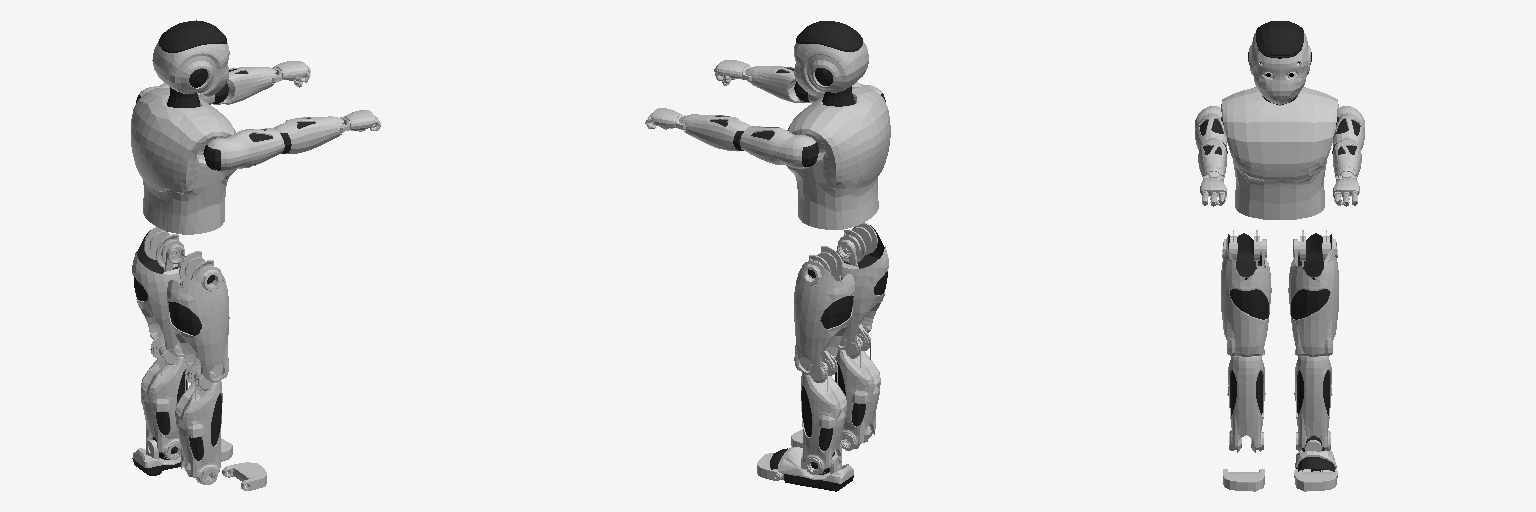
--- What the picture shows (computed from the rendered views, not written in the file) ---
Views: 3 orthographic renders of the robot side by side, from view 1: azimuth 30°, elevation 25°; view 2: azimuth 150°, elevation 25°; view 3: azimuth 270°, elevation 25°.
Robot: romeo — 70 links, 69 joints (33 revolute, 36 fixed); root link base_link; default pose: every joint at zero.
Links seen in each view (by area): view 1: torso, RHipPitchLink, HeadRollLink, LHipPitchLink, RKneePitchLink, LKneePitchLink, RShoulderYawLink, RElbowYawLink, LElbowYawLink, l_ankle, r_toe, r_wrist (+1 smaller); view 2: torso, LHipPitchLink, HeadRollLink, RHipPitchLink, LKneePitchLink, RKneePitchLink, LShoulderYawLink, l_ankle, LElbowYawLink, RElbowYawLink, l_wrist, r_wrist; view 3: torso, LHipPitchLink, RHipPitchLink, HeadRollLink, RKneePitchLink, LKneePitchLink, l_ankle, LShoulderYawLink, RShoulderYawLink, LElbowYawLink, RElbowYawLink, r_toe (+1 smaller).
Link boxes in pixels (x1,y1,x2,y2): torso: (131,88,236,234); RHipPitchLink: (167,251,229,390); HeadRollLink: (152,20,229,96); LHipPitchLink: (132,227,185,364); RKneePitchLink: (175,362,222,484); LKneePitchLink: (141,337,187,459); RShoulderYawLink: (203,128,284,171); RElbowYawLink: (274,116,337,153); LElbowYawLink: (213,67,270,104); l_ankle: (132,437,180,475); r_toe: (222,462,266,490); r_wrist: (340,110,377,132); torso: (786,87,890,229); LHipPitchLink: (794,246,854,382); HeadRollLink: (794,21,868,95); RHipPitchLink: (836,223,888,356); LKneePitchLink: (801,354,846,474); RKneePitchLink: (835,330,880,450); LShoulderYawLink: (740,126,818,168); l_ankle: (770,447,853,491); LElbowYawLink: (687,114,749,151); RElbowYawLink: (754,66,810,102); l_wrist: (649,108,685,129); r_wrist: (717,60,751,81); torso: (1221,87,1338,219); LHipPitchLink: (1288,230,1338,356); RHipPitchLink: (1221,230,1271,356); HeadRollLink: (1248,21,1311,104); RKneePitchLink: (1227,356,1265,452); LKneePitchLink: (1294,356,1332,451); l_ankle: (1294,435,1337,477); LShoulderYawLink: (1333,106,1364,149); RShoulderYawLink: (1195,106,1226,149); LElbowYawLink: (1332,138,1361,177); RElbowYawLink: (1198,138,1227,177); r_toe: (1223,469,1264,491).
Bounding box of the posed robot: 0.6535 × 0.4898 × 1.4 m (x, y, z).
Meshes: 25 distinct files referenced, 42 mesh visuals loaded (22 Collada DAE); not drawn: 4 (reference not matched to a file when rendering).

The robot description file, URDF, robot "romeo":
<?xml version="1.0"?>
<!--
   Aldebaran Robotics Romeo URDF model

   FIXME: fill missing data: sensors
  -->
<robot xmlns:xacro="http://ros.org/wiki/xacro" name="romeo">
  <link name="base_link"/>

  <link name="body">
    <inertial>
      <origin xyz="0.00932 0.0005 -0.2119" rpy="0 0 0"/>
      <mass value="4.16277"/>
      <inertia ixx="0.24187936706" ixy="-6.889635e-05" ixz="0.00282915469" iyy="0.23816771319" iyz="0.00030625215" izz="0.02147385599" />
    </inertial>
    <visual>
      <origin xyz="0 0 0" rpy="0 0 0" />
      <geometry>
	<mesh filename="package://romeo_description/meshes/Waist.dae" />
      </geometry>
    </visual>
    <collision>
      <origin xyz="0 0 0" rpy="0 0 0" />
      <geometry>
	<mesh filename="package://romeo_description/meshes/Waist.dae" />
      </geometry>
    </collision>
  </link>

  <link name="torso">
    <inertial>
      <origin xyz="0.0023 0.00038 -0.04854" rpy="0 0 0"/>
      <mass value="9.9216"/>
      <inertia ixx="0.12933235299" ixy="-0.00035965149" ixz="0.00283888003" iyy="0.12683108985" iyz="-0.00200842624" izz="0.11062739082" />
    </inertial>
    <visual>
      <origin xyz="0 0 0" rpy="0 0 0" />
      <geometry>
	<mesh filename="package://romeo_description/meshes/Torso.dae" />
      </geometry>
    </visual>
    <collision>
      <origin xyz="0 0 0" rpy="0 0 0" />
      <geometry>
	<mesh filename="package://romeo_description/meshes/Torso.dae" />
      </geometry>
    </collision>
  </link>

  <link name="NeckYawLink">
    <inertial>
      <origin xyz="0 -0.00183 -0.03074" rpy="0 0 0"/>
      <mass value="0.51016"/>
      <inertia ixx="0.00122158912" ixy="-8.014e-08" ixz="1.145e-08" iyy="0.00124607826" iyz="-1.84095e-06" izz="0.00018796505" />
    </inertial>
  </link>

  <link name="NeckPitchLink">
    <inertial>
      <origin xyz="-0.00472 -0.00054 0.04432" rpy="0 0 0"/>
      <mass value="0.23875"/>
      <inertia ixx="0.0008660225" ixy="-1.57263e-06" ixz="6.138255e-05" iyy="0.00081828666" iyz="9.69515e-06" izz="0.00023891895" />
    </inertial>
    <visual>
      <origin xyz="0 0 0" rpy="0 0 0" />
      <geometry>
	<mesh filename="package://romeo_description/meshes/NeckPitch.dae" />
      </geometry>
    </visual>
    <collision>
      <origin xyz="0 0 0" rpy="0 0 0" />
      <geometry>
	<mesh filename="package://romeo_description/meshes/NeckPitch.dae" />
      </geometry>
    </collision>
  </link>

  <link name="HeadPitchLink">
    <inertial>
      <origin xyz="0.00137 0.00027 -0.00641" rpy="0 0 0"/>
      <mass value="0.13981"/>
      <inertia ixx="3.89601e-05" ixy="-3.814e-08" ixz="-2.29622e-06" iyy="7.254653e-05" iyz="-6.46e-09" izz="5.376501e-05" />
    </inertial>
  </link>

  <link name="HeadRollLink">
    <inertial>
      <origin xyz="0.01617 0.00168 0.0757" rpy="0 0 0"/>
      <mass value="1.41282"/>
      <inertia ixx="0.01490874108" ixy="-5.142093e-05" ixz="-0.00068489344" iyy="0.01731891079" iyz="-0.00019152738" izz="0.00735474589" />
    </inertial>
    <visual>
      <origin xyz="0 0 0" rpy="0 0 0" />
      <geometry>
	<mesh filename="package://romeo_description/meshes/HeadRoll.dae" />
      </geometry>
    </visual>
    <collision>
      <origin xyz="0 0 0" rpy="0 0 0" />
      <geometry>
	<mesh filename="package://romeo_description/meshes/HeadRoll.dae" />
      </geometry>
    </collision>
  </link>

  <link name="LShoulderPitchLink">
    <inertial>
      <origin xyz="0.00149 -0.03299 0.00018" rpy="0 0 0"/>
      <mass value="0.69402"/>
      <inertia ixx="0.00201004114" ixy="2.37595e-06" ixz="-2.16793e-06" iyy="0.00057062588" iyz="8.27832e-06" izz="0.00194067879" />
    </inertial>
  </link>

  <link name="LShoulderYawLink">
    <inertial>
      <origin xyz="0.09367 0.01373 0.00103" rpy="0 0 0"/>
      <mass value="0.57151"/>
      <inertia ixx="0.00074281758" ixy="-0.00061767526" ixz="-7.28438e-05" iyy="0.00650202304" iyz="-1.251569e-05" izz="0.00664433886" />
    </inertial>
    <visual>
      <origin xyz="0 0 0" rpy="0 0 0" />
      <geometry>
	<mesh filename="package://romeo_description/meshes/LShoulderYaw.dae" />
      </geometry>
    </visual>
    <collision>
      <origin xyz="0 0 0" rpy="0 0 0" />
      <geometry>
	<mesh filename="package://romeo_description/meshes/LShoulderYaw.dae" />
      </geometry>
    </collision>
  </link>

  <link name="LElbowRollLink">
    <inertial>
      <origin xyz="-0.02231 -0.0024 0" rpy="0 0 0"/>
      <mass value="0.39848"/>
      <inertia ixx="0.00017900324" ixy="-2.25555e-06" ixz="1.376e-08" iyy="0.00080432225" iyz="8.007e-08" izz="0.00077956048" />
    </inertial>
  </link>

  <link name="LElbowYawLink">
    <inertial>
      <origin xyz="0.06738 0.01043 -0.00031" rpy="0 0 0"/>
      <mass value="0.31265"/>
      <inertia ixx="0.00037509574" ixy="-0.00022528338" ixz="2.58073e-06" iyy="0.00209727597" iyz="2.74613e-06" izz="0.00211064798" />
    </inertial>
    <visual>
      <origin xyz="0 0 0" rpy="0 0 0" />
      <geometry>
	<mesh filename="package://romeo_description/meshes/LElbowYaw.dae" />
      </geometry>
    </visual>
    <collision>
      <origin xyz="0 0 0" rpy="0 0 0" />
      <geometry>
	<mesh filename="package://romeo_description/meshes/LElbowYaw.dae" />
      </geometry>
    </collision>
  </link>

  <link name="LWristRollLink">
    <inertial>
      <origin xyz="-0.0593 -5e-05 -0.00069" rpy="0 0 0"/>
      <mass value="0.17563"/>
      <inertia ixx="6.721454e-05" ixy="-6.373e-07" ixz="-1.358095e-05" iyy="0.00085119568" iyz="-2.443e-08" izz="0.00084034753" />
    </inertial>
    <visual>
      <origin xyz="0 0 0" rpy="0 0 0" />
      <geometry>
	<mesh filename="package://romeo_description/meshes/LWristRoll.dae" />
      </geometry>
    </visual>
    <collision>
      <origin xyz="0 0 0" rpy="0 0 0" />
      <geometry>
	<mesh filename="package://romeo_description/meshes/LWristRoll.dae" />
      </geometry>
    </collision>
  </link>

  <link name="LWristYawLink">
    <inertial>
      <origin xyz="-0.00746 -0.00016 -0.00022" rpy="0 0 0"/>
      <mass value="0.07595"/>
      <inertia ixx="1.454017e-05" ixy="-4.157e-08" ixz="7.674e-08" iyy="3.919069e-05" iyz="3.08e-09" izz="3.817871e-05" />
    </inertial>
    <visual>
      <origin xyz="0 0 0" rpy="0 0 0" />
      <geometry>
	<mesh filename="package://romeo_description/meshes/WristYaw.dae" />
      </geometry>
    </visual>
    <collision>
      <origin xyz="0 0 0" rpy="0 0 0" />
      <geometry>
	<mesh filename="package://romeo_description/meshes/WristYaw.dae" />
      </geometry>
    </collision>
  </link>

  <link name="l_wrist">
    <inertial>
      <origin xyz="0.06987 -0.00381 -0.00165" rpy="0 0 0"/>
      <mass value="0.16569"/>
      <inertia ixx="0.00011252888" ixy="4.725831e-05" ixz="1.704036e-05" iyy="0.00107981778" iyz="-1.54761e-05" izz="0.00115367043" />
    </inertial>
    <visual>
      <origin xyz="0 0 0" rpy="0 0 0" />
      <geometry>
	<mesh filename="package://romeo_description/meshes/LWristPitch.dae" />
      </geometry>
    </visual>
    <collision>
      <origin xyz="0 0 0" rpy="0 0 0" />
      <geometry>
	<mesh filename="package://romeo_description/meshes/LWristPitch.dae" />
      </geometry>
    </collision>
  </link>

  <link name="RShoulderPitchLink">
    <inertial>
      <origin xyz="0.00149 0.03299 -0.00018" rpy="0 0 0"/>
      <mass value="0.69402"/>
      <inertia ixx="0.00201004114" ixy="-2.37595e-06" ixz="2.16793e-06" iyy="0.00057062588" iyz="8.27832e-06" izz="0.00194067879" />
    </inertial>
  </link>

  <link name="RShoulderYawLink">
    <inertial>
      <origin xyz="0.0937 -0.01373 -0.00069" rpy="0 0 0"/>
      <mass value="0.57071"/>
      <inertia ixx="0.00074235595" ixy="0.00061720176" ixz="5.985213e-06" iyy="0.00649988502" iyz="-1.074174e-06" izz="0.000664209089" />
    </inertial>
    <visual>
      <origin xyz="0 0 0" rpy="0 0 0" />
      <geometry>
	<mesh filename="package://romeo_description/meshes/RShoulderYaw.dae" />
      </geometry>
    </visual>
    <collision>
      <origin xyz="0 0 0" rpy="0 0 0" />
      <geometry>
	<mesh filename="package://romeo_description/meshes/RShoulderYaw.dae" />
      </geometry>
    </collision>
  </link>

  <link name="RElbowRollLink">
    <inertial>
      <origin xyz="-0.02231 -0.0024 0" rpy="0 0 0"/>
      <mass value="0.39848"/>
      <inertia ixx="0.00017900324" ixy="-2.25555e-06" ixz="1.376e-08" iyy="0.00080432225" iyz="8.007e-08" izz="0.00077956048" />
    </inertial>
  </link>

  <link name="RElbowYawLink">
    <inertial>
      <origin xyz="0.06753 -0.00889 0.00022" rpy="0 0 0"/>
      <mass value="0.31403"/>
      <inertia ixx="0.00036672778" ixy="0.00018563123" ixz="-5.37905e-07" iyy="0.00211103842" iyz="3.1932e-07" izz="0.000211493035" />
    </inertial>
    <visual>
      <origin xyz="0 0 0" rpy="0 0 0" />
      <geometry>
	<mesh filename="package://romeo_description/meshes/RElbowYaw.dae" />
      </geometry>
    </visual>
    <collision>
      <origin xyz="0 0 0" rpy="0 0 0" />
      <geometry>
	<mesh filename="package://romeo_description/meshes/RElbowYaw.dae" />
      </geometry>
    </collision>
  </link>

  <link name="RWristRollLink">
    <inertial>
      <origin xyz="-0.0593 -5e-05 -0.00069" rpy="0 0 0"/>
      <mass value="0.17563"/>
      <inertia ixx="6.721454e-05" ixy="-6.373e-07" ixz="-1.358095e-05" iyy="0.00085119568" iyz="-2.443e-08" izz="0.00084034753" />
    </inertial>
    <visual>
      <origin xyz="0 0 0" rpy="0 0 0" />
      <geometry>
	<mesh filename="package://romeo_description/meshes/RWristRoll.dae" />
      </geometry>
    </visual>
    <collision>
      <origin xyz="0 0 0" rpy="0 0 0" />
      <geometry>
	<mesh filename="package://romeo_description/meshes/RWristRoll.dae" />
      </geometry>
    </collision>
  </link>

  <link name="RWristYawLink">
    <inertial>
      <origin xyz="-0.00746 -0.00016 -0.00022" rpy="0 0 0"/>
      <mass value="0.07595"/>
      <inertia ixx="1.454017e-05" ixy="-4.157e-08" ixz="7.674e-08" iyy="3.919069e-05" iyz="3.08e-09" izz="3.817871e-05" />
    </inertial>
    <visual>
      <origin xyz="0 0 0" rpy="0 0 0" />
      <geometry>
	<mesh filename="package://romeo_description/meshes/WristYaw.dae" />
      </geometry>
    </visual>
    <collision>
      <origin xyz="0 0 0" rpy="0 0 0" />
      <geometry>
	<mesh filename="package://romeo_description/meshes/WristYaw.dae" />
      </geometry>
    </collision>
  </link>

  <link name="r_wrist">
    <inertial>
      <origin xyz="0.06987 0.00381 -0.00165" rpy="0 0 0"/>
      <mass value="0.16569"/>
      <inertia ixx="0.00011252888" ixy="0" ixz="0" iyy="0.00107981778" iyz="0" izz="0.00115367043" />
    </inertial>
    <visual>
      <origin xyz="0 0 0" rpy="0 0 0" />
      <geometry>
	<mesh filename="package://romeo_description/meshes/RWristPitch.dae" />
      </geometry>
    </visual>
    <collision>
      <origin xyz="0 0 0" rpy="0 0 0" />
      <geometry>
	<mesh filename="package://romeo_description/meshes/RWristPitch.dae" />
      </geometry>
    </collision>
  </link>

  <link name="LHipYawLink">
    <inertial>
      <origin xyz="-0.00871 -0.00022 0.06319" rpy="0 0 0"/>
      <mass value="0.49477"/>
      <inertia ixx="0.00303667904" ixy="0" ixz="0" iyy="0.0034799778" iyz="0" izz="0.00062277265" />
    </inertial>
  </link>

  <link name="LHipRollLink">
    <inertial>
      <origin xyz="0.00293 -0.00027 0.00011" rpy="0 0 0"/>
      <mass value="0.6607"/>
      <inertia ixx="0.00089862024" ixy="0" ixz="0" iyy="0.00050955901" iyz="0" izz="0.00093539188" />
    </inertial>
  </link>

  <link name="LHipPitchLink">
    <inertial>
      <origin xyz="-0.00971 0.00135 -0.15083" rpy="0 0 0"/>
      <mass value="4.33935"/>
      <inertia ixx="0.13289504951" ixy="0" ixz="0" iyy="0.13397739558" iyz="0" izz="0.01216872585" />
    </inertial>
    <visual>
      <origin xyz="0 0 0" rpy="0 0 0" />
      <geometry>
	<mesh filename="package://romeo_description/meshes/LHipPitch.dae" />
      </geometry>
    </visual>
    <collision>
      <origin xyz="0 0 0" rpy="0 0 0" />
      <geometry>
	<mesh filename="package://romeo_description/meshes/LHipPitch.dae" />
      </geometry>
    </collision>
  </link>

  <link name="LKneePitchLink">
    <inertial>
      <origin xyz="-0.00532 -0.00075 -0.12258" rpy="0 0 0"/>
      <mass value="2.61063"/>
      <inertia ixx="0.05491303061" ixy="0" ixz="0" iyy="0.05496634755" iyz="0" izz="0.00398481696" />
    </inertial>
    <visual>
      <origin xyz="0 0 0" rpy="0 0 0" />
      <geometry>
	<mesh filename="package://romeo_description/meshes/LKneePitch.dae" />
      </geometry>
    </visual>
    <collision>
      <origin xyz="0 0 0" rpy="0 0 0" />
      <geometry>
	<mesh filename="package://romeo_description/meshes/LKneePitch.dae" />
      </geometry>
    </collision>
  </link>

  <link name="LAnklePitchLink">
    <inertial>
      <origin xyz="0.00059 0.00051 0.00038" rpy="0 0 0"/>
      <mass value="0.5008"/>
      <inertia ixx="0.00042995195" ixy="0" ixz="0" iyy="0.00028145145" iyz="0" izz="0.00052766479" />
    </inertial>
  </link>

  <link name="l_ankle">
    <inertial>
      <origin xyz="0.02618 0.00259 -0.03683" rpy="0 0 0"/>
      <mass value="0.64224"/>
      <inertia ixx="0.00139908277" ixy="0" ixz="0" iyy="0.00349259103" iyz="0" izz="0.00266359477" />
    </inertial>
    <visual>
      <origin xyz="0 0 0" rpy="0 0 0" />
      <geometry>
	<mesh filename="package://romeo_description/meshes/LAnkleRoll.dae" />
      </geometry>
    </visual>
    <collision>
      <origin xyz="0 0 0" rpy="0 0 0" />
      <geometry>
	<mesh filename="package://romeo_description/meshes/LAnkleRoll.dae" />
      </geometry>
    </collision>
  </link>
  <link name="l_sole"/>

  <link name="l_toe">
    <inertial>
      <origin xyz="0.01636 -0.00167 -0.00812" rpy="0 0 0"/>
      <mass value="0.2889"/>
      <inertia ixx="0.00025411726" ixy="0" ixz="0" iyy="0.00029543601" iyz="0" izz="0.0004436638" />
    </inertial>
    <visual>
      <origin xyz="0 0 0" rpy="0 0 0" />
      <geometry>
	<mesh filename="package://romeo_description/meshes/LToePitch.dae" />
      </geometry>
    </visual>
    <collision>
      <origin xyz="0 0 0" rpy="0 0 0" />
      <geometry>
	<mesh filename="package://romeo_description/meshes/LToePitch.dae" />
      </geometry>
    </collision>
  </link>

  <link name="RHipYawLink">
    <inertial>
      <origin xyz="-0.00871 0.00022 0.06319" rpy="0 0 0"/>
      <mass value="0.49477"/>
      <inertia ixx="0.00303667904" ixy="0" ixz="0" iyy="0.0034799778" iyz="0" izz="0.00062277265" />
    </inertial>
  </link>

  <link name="RHipRollLink">
    <inertial>
      <origin xyz="0.00293 -0.00027 0.00011" rpy="0 0 0"/>
      <mass value="0.6607"/>
      <inertia ixx="0.00089862024" ixy="0" ixz="0" iyy="0.00050955901" iyz="0" izz="0.00093539188" />
    </inertial>
  </link>

  <link name="RHipPitchLink">
    <inertial>
      <origin xyz="-0.00971 -0.00135 -0.15083" rpy="0 0 0"/>
      <mass value="4.33935"/>
      <inertia ixx="0.13289504951" ixy="0" ixz="0" iyy="0.13397739558" iyz="0" izz="0.01216872585" />
    </inertial>
    <visual>
      <origin xyz="0 0 0" rpy="0 0 0" />
      <geometry>
	<mesh filename="package://romeo_description/meshes/RHipPitch.dae" />
      </geometry>
    </visual>
    <collision>
      <origin xyz="0 0 0" rpy="0 0 0" />
      <geometry>
	<mesh filename="package://romeo_description/meshes/RHipPitch.dae" />
      </geometry>
    </collision>
  </link>

  <link name="RKneePitchLink">
    <inertial>
      <origin xyz="-0.00532 0.00075 -0.12258" rpy="0 0 0"/>
      <mass value="2.61063"/>
      <inertia ixx="0.05491303061" ixy="0" ixz="0" iyy="0.05496634755" iyz="0" izz="0.00398481696" />
    </inertial>
    <visual>
      <origin xyz="0 0 0" rpy="0 0 0" />
      <geometry>
	<mesh filename="package://romeo_description/meshes/RKneePitch.dae" />
      </geometry>
    </visual>
    <collision>
      <origin xyz="0 0 0" rpy="0 0 0" />
      <geometry>
	<mesh filename="package://romeo_description/meshes/RKneePitch.dae" />
      </geometry>
    </collision>
  </link>

  <link name="RAnklePitchLink">
    <inertial>
      <origin xyz="0.00059 -0.00051 0.00038" rpy="0 0 0"/>
      <mass value="0.5008"/>
      <inertia ixx="0.00042995195" ixy="0" ixz="0" iyy="0.00028145145" iyz="0" izz="0.00052766479" />
    </inertial>
  </link>

  <link name="r_ankle">
    <inertial>
      <origin xyz="0.02618 -0.00259 -0.03683" rpy="0 0 0"/>
      <mass value="0.64224"/>
      <inertia ixx="0.00139908277" ixy="0" ixz="0" iyy="0.00349259103" iyz="0" izz="0.00266359477" />
    </inertial>
    <visual>
      <origin xyz="0 0 0" rpy="0 0 0" />
      <geometry>
	<mesh filename="package://romeo_description/meshes/RAnkleRoll.dae" />
      </geometry>
    </visual>
    <collision>
      <origin xyz="0 0 0" rpy="0 0 0" />
      <geometry>
	<mesh filename="package://romeo_description/meshes/RAnkleRoll.dae" />
      </geometry>
    </collision>
  </link>
  <link name="r_sole"/>

  <link name="r_toe">
    <inertial>
      <origin xyz="0.01636 0.00167 -0.00812" rpy="0 0 0"/>
      <mass value="0.2889"/>
      <inertia ixx="0.00025411726" ixy="0" ixz="0" iyy="0.00029543601" iyz="0" izz="0.0004436638" />
    </inertial>
    <visual>
      <origin xyz="0 0 0" rpy="0 0 0" />
      <geometry>
	<mesh filename="package://romeo_description/meshes/RToePitch.dae" />
      </geometry>
    </visual>
    <collision>
      <origin xyz="0 0 0" rpy="0 0 0" />
      <geometry>
	<mesh filename="package://romeo_description/meshes/RToePitch.dae" />
      </geometry>
    </collision>
  </link>

  <link name="LFinger11Link">
    <inertial>
      <origin xyz="0 0 0" rpy="0 0 0"/>
      <mass value="0"/>
      <inertia ixx="0" ixy="0" ixz="0" iyy="0" iyz="0" izz="0" />
    </inertial>
    <visual>
      <origin xyz="0 0 0" rpy="0 0 0" />
      <geometry>
	<mesh filename="package://romeo_description/meshes/Phalax.dae" />
      </geometry>
    </visual>
    <collision>
      <origin xyz="0 0 0" rpy="0 0 0" />
      <geometry>
	<mesh filename="package://romeo_description/meshes/Phalax.dae" />
      </geometry>
    </collision>
  </link>

  <link name="LFinger12Link">
    <inertial>
      <origin xyz="0 0 0" rpy="0 0 0"/>
      <mass value="0"/>
      <inertia ixx="0" ixy="0" ixz="0" iyy="0" iyz="0" izz="0" />
    </inertial>
    <visual>
      <origin xyz="0 0 0" rpy="0 0 0" />
      <geometry>
	<mesh filename="package://romeo_description/meshes/Phalax.dae" />
      </geometry>
    </visual>
    <collision>
      <origin xyz="0 0 0" rpy="0 0 0" />
      <geometry>
	<mesh filename="package://romeo_description/meshes/Phalax.dae" />
      </geometry>
    </collision>
  </link>

  <link name="LFinger13Link">
    <inertial>
      <origin xyz="0 0 0" rpy="0 0 0"/>
      <mass value="0"/>
      <inertia ixx="0" ixy="0" ixz="0" iyy="0" iyz="0" izz="0" />
    </inertial>
    <visual>
      <origin xyz="0 0 0" rpy="0 0 0" />
      <geometry>
	<mesh filename="package://romeo_description/meshes/PhalaxEnd.dae" />
      </geometry>
    </visual>
    <collision>
      <origin xyz="0 0 0" rpy="0 0 0" />
      <geometry>
	<mesh filename="package://romeo_description/meshes/PhalaxEnd.dae" />
      </geometry>
    </collision>
  </link>

  <link name="LFinger21Link">
    <inertial>
      <origin xyz="0 0 0" rpy="0 0 0"/>
      <mass value="0"/>
      <inertia ixx="0" ixy="0" ixz="0" iyy="0" iyz="0" izz="0" />
    </inertial>
    <visual>
      <origin xyz="0 0 0" rpy="0 0 0" />
      <geometry>
	<mesh filename="package://romeo_description/meshes/Phalax.dae" />
      </geometry>
    </visual>
    <collision>
      <origin xyz="0 0 0" rpy="0 0 0" />
      <geometry>
	<mesh filename="package://romeo_description/meshes/Phalax.dae" />
      </geometry>
    </collision>
  </link>

  <link name="LFinger22Link">
    <inertial>
      <origin xyz="0 0 0" rpy="0 0 0"/>
      <mass value="0"/>
      <inertia ixx="0" ixy="0" ixz="0" iyy="0" iyz="0" izz="0" />
    </inertial>
    <visual>
      <origin xyz="0 0 0" rpy="0 0 0" />
      <geometry>
	<mesh filename="package://romeo_description/meshes/Phalax.dae" />
      </geometry>
    </visual>
    <collision>
      <origin xyz="0 0 0" rpy="0 0 0" />
      <geometry>
	<mesh filename="package://romeo_description/meshes/Phalax.dae" />
      </geometry>
    </collision>
  </link>

  <link name="LFinger23Link">
    <inertial>
      <origin xyz="0 0 0" rpy="0 0 0"/>
      <mass value="0"/>
      <inertia ixx="0" ixy="0" ixz="0" iyy="0" iyz="0" izz="0" />
    </inertial>
    <visual>
      <origin xyz="0 0 0" rpy="0 0 0" />
      <geometry>
	<mesh filename="package://romeo_description/meshes/PhalaxEnd.dae" />
      </geometry>
    </visual>
    <collision>
      <origin xyz="0 0 0" rpy="0 0 0" />
      <geometry>
	<mesh filename="package://romeo_description/meshes/PhalaxEnd.dae" />
      </geometry>
    </collision>
  </link>

  <link name="LFinger31Link">
    <inertial>
      <origin xyz="0 0 0" rpy="0 0 0"/>
      <mass value="0"/>
      <inertia ixx="0" ixy="0" ixz="0" iyy="0" iyz="0" izz="0" />
    </inertial>
    <visual>
      <origin xyz="0 0 0" rpy="0 0 0" />
      <geometry>
	<mesh filename="package://romeo_description/meshes/Phalax.dae" />
      </geometry>
    </visual>
    <collision>
      <origin xyz="0 0 0" rpy="0 0 0" />
      <geometry>
	<mesh filename="package://romeo_description/meshes/Phalax.dae" />
      </geometry>
    </collision>
  </link>

  <link name="LFinger32Link">
    <inertial>
      <origin xyz="0 0 0" rpy="0 0 0"/>
      <mass value="0"/>
      <inertia ixx="0" ixy="0" ixz="0" iyy="0" iyz="0" izz="0" />
    </inertial>
    <visual>
      <origin xyz="0 0 0" rpy="0 0 0" />
      <geometry>
	<mesh filename="package://romeo_description/meshes/Phalax.dae" />
      </geometry>
    </visual>
    <collision>
      <origin xyz="0 0 0" rpy="0 0 0" />
      <geometry>
	<mesh filename="package://romeo_description/meshes/Phalax.dae" />
      </geometry>
    </collision>
  </link>

  <link name="LFinger33Link">
    <inertial>
      <origin xyz="0 0 0" rpy="0 0 0"/>
      <mass value="0"/>
      <inertia ixx="0" ixy="0" ixz="0" iyy="0" iyz="0" izz="0" />
    </inertial>
    <visual>
      <origin xyz="0 0 0" rpy="0 0 0" />
      <geometry>
	<mesh filename="package://romeo_description/meshes/PhalaxEnd.dae" />
      </geometry>
    </visual>
    <collision>
      <origin xyz="0 0 0" rpy="0 0 0" />
      <geometry>
	<mesh filename="package://romeo_description/meshes/PhalaxEnd.dae" />
      </geometry>
    </collision>
  </link>

  <link name="LThumb1Link">
    <inertial>
      <origin xyz="0 0 0" rpy="0 0 0"/>
      <mass value="0"/>
      <inertia ixx="0" ixy="0" ixz="0" iyy="0" iyz="0" izz="0" />
    </inertial>
    <visual>
      <origin xyz="0 0 0" rpy="0 0 0" />
      <geometry>
	<mesh filename="package://romeo_description/meshes/LThumb.dae" />
      </geometry>
    </visual>
    <collision>
      <origin xyz="0 0 0" rpy="0 0 0" />
      <geometry>
	<mesh filename="package://romeo_description/meshes/LThumb.dae" />
      </geometry>
    </collision>
  </link>

  <link name="LThumb2Link">
    <inertial>
      <origin xyz="0 0 0" rpy="0 0 0"/>
      <mass value="0"/>
      <inertia ixx="0" ixy="0" ixz="0" iyy="0" iyz="0" izz="0" />
    </inertial>
    <visual>
      <origin xyz="0 0 0" rpy="0 0 0" />
      <geometry>
	<mesh filename="package://romeo_description/meshes/Phalax.dae" />
      </geometry>
    </visual>
    <collision>
      <origin xyz="0 0 0" rpy="0 0 0" />
      <geometry>
	<mesh filename="package://romeo_description/meshes/Phalax.dae" />
      </geometry>
    </collision>
  </link>

  <link name="LThumb3Link">
    <inertial>
      <origin xyz="0 0 0" rpy="0 0 0"/>
      <mass value="0"/>
      <inertia ixx="0" ixy="0" ixz="0" iyy="0" iyz="0" izz="0" />
    </inertial>
    <visual>
      <origin xyz="0 0 0" rpy="0 0 0" />
      <geometry>
	<mesh filename="package://romeo_description/meshes/PhalaxEnd.dae" />
      </geometry>
    </visual>
    <collision>
      <origin xyz="0 0 0" rpy="0 0 0" />
      <geometry>
	<mesh filename="package://romeo_description/meshes/PhalaxEnd.dae" />
      </geometry>
    </collision>
  </link>

  <link name="RFinger11Link">
    <inertial>
      <origin xyz="0 0 0" rpy="0 0 0"/>
      <mass value="0"/>
      <inertia ixx="0" ixy="0" ixz="0" iyy="0" iyz="0" izz="0" />
    </inertial>
    <visual>
      <origin xyz="0 0 0" rpy="0 0 0" />
      <geometry>
	<mesh filename="package://romeo_description/meshes/Phalax.dae" />
      </geometry>
    </visual>
    <collision>
      <origin xyz="0 0 0" rpy="0 0 0" />
      <geometry>
	<mesh filename="package://romeo_description/meshes/Phalax.dae" />
      </geometry>
    </collision>
  </link>

  <link name="RFinger12Link">
    <inertial>
      <origin xyz="0 0 0" rpy="0 0 0"/>
      <mass value="0"/>
      <inertia ixx="0" ixy="0" ixz="0" iyy="0" iyz="0" izz="0" />
    </inertial>
    <visual>
      <origin xyz="0 0 0" rpy="0 0 0" />
      <geometry>
	<mesh filename="package://romeo_description/meshes/Phalax.dae" />
      </geometry>
    </visual>
    <collision>
      <origin xyz="0 0 0" rpy="0 0 0" />
      <geometry>
	<mesh filename="package://romeo_description/meshes/Phalax.dae" />
      </geometry>
    </collision>
  </link>

  <link name="RFinger13Link">
    <inertial>
      <origin xyz="0 0 0" rpy="0 0 0"/>
      <mass value="0"/>
      <inertia ixx="0" ixy="0" ixz="0" iyy="0" iyz="0" izz="0" />
    </inertial>
    <visual>
      <origin xyz="0 0 0" rpy="0 0 0" />
      <geometry>
	<mesh filename="package://romeo_description/meshes/PhalaxEnd.dae" />
      </geometry>
    </visual>
    <collision>
      <origin xyz="0 0 0" rpy="0 0 0" />
      <geometry>
	<mesh filename="package://romeo_description/meshes/PhalaxEnd.dae" />
      </geometry>
    </collision>
  </link>

  <link name="RFinger21Link">
    <inertial>
      <origin xyz="0 0 0" rpy="0 0 0"/>
      <mass value="0"/>
      <inertia ixx="0" ixy="0" ixz="0" iyy="0" iyz="0" izz="0" />
    </inertial>
    <visual>
      <origin xyz="0 0 0" rpy="0 0 0" />
      <geometry>
	<mesh filename="package://romeo_description/meshes/Phalax.dae" />
      </geometry>
    </visual>
    <collision>
      <origin xyz="0 0 0" rpy="0 0 0" />
      <geometry>
	<mesh filename="package://romeo_description/meshes/Phalax.dae" />
      </geometry>
    </collision>
  </link>

  <link name="RFinger22Link">
    <inertial>
      <origin xyz="0 0 0" rpy="0 0 0"/>
      <mass value="0"/>
      <inertia ixx="0" ixy="0" ixz="0" iyy="0" iyz="0" izz="0" />
    </inertial>
    <visual>
      <origin xyz="0 0 0" rpy="0 0 0" />
      <geometry>
	<mesh filename="package://romeo_description/meshes/Phalax.dae" />
      </geometry>
    </visual>
    <collision>
      <origin xyz="0 0 0" rpy="0 0 0" />
      <geometry>
	<mesh filename="package://romeo_description/meshes/Phalax.dae" />
      </geometry>
    </collision>
  </link>

  <link name="RFinger23Link">
    <inertial>
      <origin xyz="0 0 0" rpy="0 0 0"/>
      <mass value="0"/>
      <inertia ixx="0" ixy="0" ixz="0" iyy="0" iyz="0" izz="0" />
    </inertial>
    <visual>
      <origin xyz="0 0 0" rpy="0 0 0" />
      <geometry>
	<mesh filename="package://romeo_description/meshes/PhalaxEnd.dae" />
      </geometry>
    </visual>
    <collision>
      <origin xyz="0 0 0" rpy="0 0 0" />
      <geometry>
	<mesh filename="package://romeo_description/meshes/PhalaxEnd.dae" />
      </geometry>
    </collision>
  </link>

  <link name="RFinger31Link">
    <inertial>
      <origin xyz="0 0 0" rpy="0 0 0"/>
      <mass value="0"/>
      <inertia ixx="0" ixy="0" ixz="0" iyy="0" iyz="0" izz="0" />
    </inertial>
    <visual>
      <origin xyz="0 0 0" rpy="0 0 0" />
      <geometry>
	<mesh filename="package://romeo_description/meshes/Phalax.dae" />
      </geometry>
    </visual>
    <collision>
      <origin xyz="0 0 0" rpy="0 0 0" />
      <geometry>
	<mesh filename="package://romeo_description/meshes/Phalax.dae" />
      </geometry>
    </collision>
  </link>

  <link name="RFinger32Link">
    <inertial>
      <origin xyz="0 0 0" rpy="0 0 0"/>
      <mass value="0"/>
      <inertia ixx="0" ixy="0" ixz="0" iyy="0" iyz="0" izz="0" />
    </inertial>
    <visual>
      <origin xyz="0 0 0" rpy="0 0 0" />
      <geometry>
	<mesh filename="package://romeo_description/meshes/Phalax.dae" />
      </geometry>
    </visual>
    <collision>
      <origin xyz="0 0 0" rpy="0 0 0" />
      <geometry>
	<mesh filename="package://romeo_description/meshes/Phalax.dae" />
      </geometry>
    </collision>
  </link>

  <link name="RFinger33Link">
    <inertial>
      <origin xyz="0 0 0" rpy="0 0 0"/>
      <mass value="0"/>
      <inertia ixx="0" ixy="0" ixz="0" iyy="0" iyz="0" izz="0" />
    </inertial>
    <visual>
      <origin xyz="0 0 0" rpy="0 0 0" />
      <geometry>
	<mesh filename="package://romeo_description/meshes/PhalaxEnd.dae" />
      </geometry>
    </visual>
    <collision>
      <origin xyz="0 0 0" rpy="0 0 0" />
      <geometry>
	<mesh filename="package://romeo_description/meshes/PhalaxEnd.dae" />
      </geometry>
    </collision>
  </link>

  <link name="RThumb1Link">
    <inertial>
      <origin xyz="0 0 0" rpy="0 0 0"/>
      <mass value="0"/>
      <inertia ixx="0" ixy="0" ixz="0" iyy="0" iyz="0" izz="0" />
    </inertial>
    <visual>
      <origin xyz="0 0 0" rpy="0 0 0" />
      <geometry>
	<mesh filename="package://romeo_description/meshes/RThumb.dae" />
      </geometry>
    </visual>
    <collision>
      <origin xyz="0 0 0" rpy="0 0 0" />
      <geometry>
	<mesh filename="package://romeo_description/meshes/RThumb.dae" />
      </geometry>
    </collision>
  </link>

  <link name="RThumb2Link">
    <inertial>
      <origin xyz="0 0 0" rpy="0 0 0"/>
      <mass value="0"/>
      <inertia ixx="0" ixy="0" ixz="0" iyy="0" iyz="0" izz="0" />
    </inertial>
    <visual>
      <origin xyz="0 0 0" rpy="0 0 0" />
      <geometry>
	<mesh filename="package://romeo_description/meshes/Phalax.dae" />
      </geometry>
    </visual>
    <collision>
      <origin xyz="0 0 0" rpy="0 0 0" />
      <geometry>
	<mesh filename="package://romeo_description/meshes/Phalax.dae" />
      </geometry>
    </collision>
  </link>

  <link name="RThumb3Link">
    <inertial>
      <origin xyz="0 0 0" rpy="0 0 0"/>
      <mass value="0"/>
      <inertia ixx="0" ixy="0" ixz="0" iyy="0" iyz="0" izz="0" />
    </inertial>
    <visual>
      <origin xyz="0 0 0" rpy="0 0 0" />
      <geometry>
	<mesh filename="package://romeo_description/meshes/PhalaxEnd.dae" />
      </geometry>
    </visual>
    <collision>
      <origin xyz="0 0 0" rpy="0 0 0" />
      <geometry>
	<mesh filename="package://romeo_description/meshes/PhalaxEnd.dae" />
      </geometry>
    </collision>
  </link>



  <!--   Joints following below -->

  <joint name="waist" type="fixed">
    <parent link="base_link"/>
    <child link="body"/>
    <origin xyz="0 0 0" rpy="0 0 0"/>
  </joint>
  <joint name="TrunkYaw" type="revolute">
    <origin xyz="-0 -0 0.2" rpy="0 0 0"/>
    <axis xyz="0 0 1"/>
    <parent link="base_link"/>
    <child link="torso"/>
    <limit effort="0" lower="-0.78539815" upper="0.78539815" velocity="0" />
  </joint>

  <joint name="NeckYaw" type="revolute">
    <origin xyz="0 0 0.0835" rpy="0 0 0"/>
    <axis xyz="0 0 1"/>
    <parent link="torso"/>
    <child link="NeckYawLink"/>
    <limit effort="24.2532552" lower="-1.5707963" upper="1.5707963" velocity="5.8886917" />
  </joint>

  <joint name="NeckPitch" type="revolute">
    <origin xyz="0 0 0" rpy="0 0 0"/>
    <axis xyz="0 1 0"/>
    <parent link="NeckYawLink"/>
    <child link="NeckPitchLink"/>
    <limit effort="23.115708" lower="-0.698131688888889" upper="0.698131688888889" velocity="6.17848" />
  </joint>

  <joint name="HeadPitch" type="revolute">
    <origin xyz="0 0 0.09511" rpy="0 0 0"/>
    <axis xyz="0 1 0"/>
    <parent link="NeckPitchLink"/>
    <child link="HeadPitchLink"/>
    <limit effort="14.6811456" lower="-0.289724650888889" upper="0.349065844444444" velocity="7.2988824" />
  </joint>

  <joint name="HeadRoll" type="revolute">
    <origin xyz="0 0 0" rpy="0 0 0"/>
    <axis xyz="1 0 0"/>
    <parent link="HeadPitchLink"/>
    <child link="HeadRollLink"/>
    <limit effort="22.586421" lower="-0.523598766666667" upper="0.523598766666667" velocity="4.7442645" />
  </joint>

  <joint name="LShoulderPitch" type="revolute">
    <origin xyz="0.005 0.19 0" rpy="0 0 0"/>
    <axis xyz="0 1 0"/>
    <parent link="torso"/>
    <child link="LShoulderPitchLink"/>
    <limit effort="21.882612" lower="-1.51843642333333" upper="2.09439506666667" velocity="6.52664058" />
  </joint>

  <joint name="LShoulderYaw" type="revolute">
    <origin xyz="0 0 0" rpy="0 0 0"/>
    <axis xyz="0 0 1"/>
    <parent link="LShoulderPitchLink"/>
    <child link="LShoulderYawLink"/>
    <limit effort="13.820682" lower="-0.200712860555556" upper="1.43989660833333" velocity="10.333784" />
  </joint>

  <joint name="LElbowRoll" type="revolute">
    <origin xyz="0.205 0 0" rpy="0 0 0"/>
    <axis xyz="1 0 0"/>
    <parent link="LShoulderYawLink"/>
    <child link="LElbowRollLink"/>
    <limit effort="13.820682" lower="-2.60054054111111" upper="1.39626337777778" velocity="10.333784" />
  </joint>

  <joint name="LElbowYaw" type="revolute">
    <origin xyz="0 0 0" rpy="0 0 0"/>
    <axis xyz="0 0 1"/>
    <parent link="LElbowRollLink"/>
    <child link="LElbowYawLink"/>
    <limit effort="13.757736" lower="-1.5707963" upper="0.401425721111111" velocity="10.3810644" />
  </joint>

  <joint name="LWristRoll" type="revolute">
    <origin xyz="0.182 0 0" rpy="0 0 0"/>
    <axis xyz="1 0 0"/>
    <parent link="LElbowYawLink"/>
    <child link="LWristRollLink"/>
    <limit effort="0" lower="-3.66519136666667" upper="0.523598766666667" velocity="0" />
  </joint>

  <joint name="LWristYaw" type="revolute">
    <origin xyz="0 0 0" rpy="0 0 0"/>
    <axis xyz="0 1 0"/>
    <parent link="LWristRollLink"/>
    <child link="LWristYawLink"/>
    <limit effort="0" lower="-0.488692182222222" upper="0.488692182222222" velocity="0" />
  </joint>

  <joint name="LWristPitch" type="revolute">
    <origin xyz="0 0 0" rpy="0 0 0"/>
    <axis xyz="0 0 1"/>
    <parent link="LWristYawLink"/>
    <child link="l_wrist"/>
    <limit effort="0" lower="-0.977384364444444" upper="0.977384364444444" velocity="0" />
  </joint>

  <joint name="RShoulderPitch" type="revolute">
    <origin xyz="0.005 -0.19 0" rpy="0 0 0"/>
    <axis xyz="0 1 0"/>
    <parent link="torso"/>
    <child link="RShoulderPitchLink"/>
    <limit effort="21.882612" lower="-1.51843642333333" upper="2.09439506666667" velocity="6.52664058" />
  </joint>

  <joint name="RShoulderYaw" type="revolute">
    <origin xyz="0 0 0" rpy="0 0 0"/>
    <axis xyz="0 0 1"/>
    <parent link="RShoulderPitchLink"/>
    <child link="RShoulderYawLink"/>
    <limit effort="13.820682" lower="-1.43989660833333" upper="0.200712860555556" velocity="10.333784" />
  </joint>

  <joint name="RElbowRoll" type="revolute">
    <origin xyz="0.205 0 0" rpy="0 0 0"/>
    <axis xyz="1 0 0"/>
    <parent link="RShoulderYawLink"/>
    <child link="RElbowRollLink"/>
    <limit effort="13.820682" lower="-1.39626337777778" upper="2.60054054111111" velocity="10.333784" />
  </joint>

  <joint name="RElbowYaw" type="revolute">
    <origin xyz="0 0 0" rpy="0 0 0"/>
    <axis xyz="0 0 1"/>
    <parent link="RElbowRollLink"/>
    <child link="RElbowYawLink"/>
    <limit effort="13.757736" lower="-0.401425721111111" upper="1.5707963" velocity="10.3810644" />
  </joint>

  <joint name="RWristRoll" type="revolute">
    <origin xyz="0.182 0 0" rpy="0 0 0"/>
    <axis xyz="1 0 0"/>
    <parent link="RElbowYawLink"/>
    <child link="RWristRollLink"/>
    <limit effort="0" lower="-0.523598766666667" upper="3.66519136666667" velocity="0" />
  </joint>

  <joint name="RWristYaw" type="revolute">
    <origin xyz="0 0 0" rpy="0 0 0"/>
    <axis xyz="0 1 0"/>
    <parent link="RWristRollLink"/>
    <child link="RWristYawLink"/>
    <limit effort="0" lower="-0.488692182222222" upper="0.488692182222222" velocity="0" />
  </joint>

  <joint name="RWristPitch" type="revolute">
    <origin xyz="0 0 0" rpy="0 0 0"/>
    <axis xyz="0 0 1"/>
    <parent link="RWristYawLink"/>
    <child link="r_wrist"/>
    <limit effort="0" lower="-0.977384364444444" upper="0.977384364444444" velocity="0" />
  </joint>

  <joint name="LHipYaw" type="revolute">
    <origin xyz="0 0.096 -0.20004" rpy="0 0 0"/>
    <axis xyz="0 0 1"/>
    <parent link="base_link"/>
    <child link="LHipYawLink"/>
    <limit effort="17.754" lower="-0.261799383333333" upper="0.261799383333333" velocity="8.082461" />
  </joint>

  <joint name="LHipRoll" type="revolute">
    <origin xyz="0 0 0" rpy="0 0 0"/>
    <axis xyz="1 0 0"/>
    <parent link="LHipYawLink"/>
    <child link="LHipRollLink"/>
    <limit effort="27.911346822" lower="-0.261799383333333" upper="0.523598766666667" velocity="10.289294" />
  </joint>

  <joint name="LHipPitch" type="revolute">
    <origin xyz="0 0 0" rpy="0 0 0"/>
    <axis xyz="0 1 0"/>
    <parent link="LHipRollLink"/>
    <child link="LHipPitchLink"/>
    <limit effort="42.35835006" lower="-1.71042263777778" upper="0.523598766666667" velocity="6.7799634" />
  </joint>

  <joint name="LKneePitch" type="revolute">
    <origin xyz="0 0 -0.32" rpy="0 0 0"/>
    <axis xyz="0 1 0"/>
    <parent link="LHipPitchLink"/>
    <child link="LKneePitchLink"/>
    <limit effort="17.350636374" lower="-0.0523598766666667" upper="2.25147469666667" velocity="8.27600953" />
  </joint>

  <joint name="LAnklePitch" type="revolute">
    <origin xyz="0 0 -0.29" rpy="0 0 0"/>
    <axis xyz="0 1 0"/>
    <parent link="LKneePitchLink"/>
    <child link="LAnklePitchLink"/>
    <limit effort="42.35835006" lower="-0.78539815" upper="0.523598766666667" velocity="6.7799634" />
  </joint>

  <joint name="LAnkleRoll" type="revolute">
    <origin xyz="0 0 0" rpy="0 0 0"/>
    <axis xyz="1 0 0"/>
    <parent link="LAnklePitchLink"/>
    <child link="l_ankle"/>
    <limit effort="27.911346822" lower="-0.349065844444444" upper="0.349065844444444" velocity="10.28929" />
  </joint>

  <joint name="LToePitch" type="revolute">
    <origin xyz="0.1135 0 -0.0524" rpy="0 0 0"/>
    <axis xyz="0 1 0"/>
    <parent link="l_ankle"/>
    <child link="l_toe"/>
    <limit effort="0" lower="-0.78539815" upper="0" velocity="0" />
  </joint>

  <joint name="RHipYaw" type="revolute">
    <origin xyz="0 -0.096 -0.20004" rpy="0 0 0"/>
    <axis xyz="0 0 1"/>
    <parent link="base_link"/>
    <child link="RHipYawLink"/>
    <limit effort="17.754" lower="-0.261799383333333" upper="0.261799383333333" velocity="8.082461" />
  </joint>

  <joint name="RHipRoll" type="revolute">
    <origin xyz="0 0 0" rpy="0 0 0"/>
    <axis xyz="1 0 0"/>
    <parent link="RHipYawLink"/>
    <child link="RHipRollLink"/>
    <limit effort="27.911346822" lower="-0.523598766666667" upper="0.261799383333333" velocity="10.289294" />
  </joint>

  <joint name="RHipPitch" type="revolute">
    <origin xyz="0 0 0" rpy="0 0 0"/>
    <axis xyz="0 1 0"/>
    <parent link="RHipRollLink"/>
    <child link="RHipPitchLink"/>
    <limit effort="42.35835006" lower="-1.71042263777778" upper="0.523598766666667" velocity="6.7799634" />
  </joint>

  <joint name="RKneePitch" type="revolute">
    <origin xyz="0 0 -0.32" rpy="0 0 0"/>
    <axis xyz="0 1 0"/>
    <parent link="RHipPitchLink"/>
    <child link="RKneePitchLink"/>
    <limit effort="17.350636374" lower="-0.0523598766666667" upper="2.25147469666667" velocity="8.27600953" />
  </joint>

  <joint name="RAnklePitch" type="revolute">
    <origin xyz="0 0 -0.29" rpy="0 0 0"/>
    <axis xyz="0 1 0"/>
    <parent link="RKneePitchLink"/>
    <child link="RAnklePitchLink"/>
    <limit effort="42.35835006" lower="-0.78539815" upper="0.523598766666667" velocity="6.7799634" />
  </joint>

  <joint name="RAnkleRoll" type="revolute">
    <origin xyz="0 0 0" rpy="0 0 0"/>
    <axis xyz="1 0 0"/>
    <parent link="RAnklePitchLink"/>
    <child link="r_ankle"/>
    <limit effort="27.911346822" lower="-0.349065844444444" upper="0.349065844444444" velocity="10.28929" />
  </joint>

  <joint name="RToePitch" type="revolute">
    <origin xyz="0.1135 0 -0.0524" rpy="0 0 0"/>
    <axis xyz="0 1 0"/>
    <parent link="r_ankle"/>
    <child link="r_toe"/>
    <limit effort="0" lower="-0.78539815" upper="0" velocity="0" />
  </joint>

  <joint name="LFinger11" type="fixed">
    <origin xyz="0.10937 0.02468 0.00329" rpy="2.98023e-08 1.06465 0.122173"/>
    <axis xyz="0.121869 -0.992546 -4.37114e-08"/>
    <parent link="l_wrist"/>
    <child link="LFinger11Link"/>
    <limit effort="0" lower="0" upper="1.06465082555556" velocity="0" />
  </joint>

  <joint name="LFinger12" type="fixed">
    <origin xyz="0.01818 0 0" rpy="4.64506e-08 1.06465 7.88574e-08"/>
    <axis xyz="0 -1 -4.37114e-08"/>
    <parent link="LFinger11Link"/>
    <child link="LFinger12Link"/>
    <limit effort="0" lower="0" upper="1.06465082555556" velocity="0" />
    <mimic joint="LFinger11" multiplier="1" offset="0"/>
  </joint>

  <joint name="LFinger13" type="fixed">
    <origin xyz="0.01818 0 0" rpy="4.64506e-08 1.06465 7.88574e-08"/>
    <axis xyz="0 -1 -4.37114e-08"/>
    <parent link="LFinger12Link"/>
    <child link="LFinger13Link"/>
    <limit effort="0" lower="0" upper="1.06465082555556" velocity="0" />
    <mimic joint="LFinger11" multiplier="1" offset="0"/>
  </joint>

  <joint name="LFinger21" type="fixed">
    <origin xyz="0.11525 0 0.00329" rpy="4.64506e-08 1.06465 7.88574e-08"/>
    <axis xyz="0 -1 -4.37114e-08"/>
    <parent link="l_wrist"/>
    <child link="LFinger21Link"/>
    <limit effort="0" lower="0" upper="1.06465082555556" velocity="0" />
    <mimic joint="LFinger11" multiplier="1" offset="0"/>
  </joint>

  <joint name="LFinger22" type="fixed">
    <origin xyz="0.01818 0 0" rpy="4.64506e-08 1.06465 7.88574e-08"/>
    <axis xyz="0 -1 -4.37114e-08"/>
    <parent link="LFinger21Link"/>
    <child link="LFinger22Link"/>
    <limit effort="0" lower="0" upper="1.06465082555556" velocity="0" />
    <mimic joint="LFinger11" multiplier="1" offset="0"/>
  </joint>

  <joint name="LFinger23" type="fixed">
    <origin xyz="0.01818 0 0" rpy="4.64506e-08 1.06465 7.88574e-08"/>
    <axis xyz="0 -1 -4.37114e-08"/>
    <parent link="LFinger22Link"/>
    <child link="LFinger23Link"/>
    <limit effort="0" lower="0" upper="1.06465082555556" velocity="0" />
    <mimic joint="LFinger11" multiplier="1" offset="0"/>
  </joint>

  <joint name="LFinger31" type="fixed">
    <origin xyz="0.09936 -0.02478 0.00329" rpy="3.72529e-08 1.06465 -0.122173"/>
    <axis xyz="-0.121869 -0.992546 -4.37114e-08"/>
    <parent link="l_wrist"/>
    <child link="LFinger31Link"/>
    <limit effort="0" lower="0" upper="1.06465082555556" velocity="0" />
    <mimic joint="LFinger11" multiplier="1" offset="0"/>
  </joint>

  <joint name="LFinger32" type="fixed">
    <origin xyz="0.01818 0 0" rpy="4.64506e-08 1.06465 7.88574e-08"/>
    <axis xyz="0 -1 -4.37114e-08"/>
    <parent link="LFinger31Link"/>
    <child link="LFinger32Link"/>
    <limit effort="0" lower="0" upper="1.06465082555556" velocity="0" />
    <mimic joint="LFinger11" multiplier="1" offset="0"/>
  </joint>

  <joint name="LFinger33" type="fixed">
    <origin xyz="0.01818 0 0" rpy="4.64506e-08 1.06465 7.88574e-08"/>
    <axis xyz="0 -1 -4.37114e-08"/>
    <parent link="LFinger32Link"/>
    <child link="LFinger33Link"/>
    <limit effort="0" lower="0" upper="1.06465082555556" velocity="0" />
    <mimic joint="LFinger11" multiplier="1" offset="0"/>
  </joint>

  <joint name="LThumb1" type="fixed">
    <origin xyz="0.07115 -0.02465 -0.01233" rpy="-4.76837e-07 1.37881 -2.53073"/>
    <axis xyz="-0.573576 0.819152 1.05097e-07"/>
    <parent link="l_wrist"/>
    <child link="LThumb1Link"/>
    <limit effort="0" lower="-1.06465082555556" upper="0" velocity="0" />
    <mimic joint="LFinger11" multiplier="-1" offset="0"/>
  </joint>

  <joint name="LThumb2" type="fixed">
    <origin xyz="0.01818 0 0" rpy="4.64506e-08 1.06465 7.88574e-08"/>
    <axis xyz="0 -1 -4.37114e-08"/>
    <parent link="LThumb1Link"/>
    <child link="LThumb2Link"/>
    <limit effort="0" lower="0" upper="1.06465082555556" velocity="0" />
    <mimic joint="LFinger11" multiplier="1" offset="0"/>
  </joint>

  <joint name="LThumb3" type="fixed">
    <origin xyz="0.01818 0 0" rpy="4.64506e-08 1.06465 7.88574e-08"/>
    <axis xyz="0 -1 -4.37114e-08"/>
    <parent link="LThumb2Link"/>
    <child link="LThumb3Link"/>
    <limit effort="0" lower="0" upper="1.06465082555556" velocity="0" />
    <mimic joint="LFinger11" multiplier="1" offset="0"/>
  </joint>

  <joint name="RFinger11" type="fixed">
    <origin xyz="0.10937 -0.02468 0.00329" rpy="3.72529e-08 1.06465 -0.122173"/>
    <axis xyz="-0.121869 -0.992546 -4.37114e-08"/>
    <parent link="r_wrist"/>
    <child link="RFinger11Link"/>
    <limit effort="0" lower="0" upper="1.06465082555556" velocity="0" />
  </joint>

  <joint name="RFinger12" type="fixed">
    <origin xyz="0.01818 0 0" rpy="4.64506e-08 1.06465 7.88574e-08"/>
    <axis xyz="0 -1 -4.37114e-08"/>
    <parent link="RFinger11Link"/>
    <child link="RFinger12Link"/>
    <limit effort="0" lower="0" upper="1.06465082555556" velocity="0" />
    <mimic joint="RFinger11" multiplier="1" offset="0"/>
  </joint>

  <joint name="RFinger13" type="fixed">
    <origin xyz="0.01818 0 0" rpy="4.64506e-08 1.06465 7.88574e-08"/>
    <axis xyz="0 -1 -4.37114e-08"/>
    <parent link="RFinger12Link"/>
    <child link="RFinger13Link"/>
    <limit effort="0" lower="0" upper="1.06465082555556" velocity="0" />
    <mimic joint="RFinger11" multiplier="1" offset="0"/>
  </joint>

  <joint name="RFinger21" type="fixed">
    <origin xyz="0.11525 0 0.00329" rpy="4.64506e-08 1.06465 7.88574e-08"/>
    <axis xyz="0 -1 -4.37114e-08"/>
    <parent link="r_wrist"/>
    <child link="RFinger21Link"/>
    <limit effort="0" lower="0" upper="1.06465082555556" velocity="0" />
    <mimic joint="RFinger11" multiplier="1" offset="0"/>
  </joint>

  <joint name="RFinger22" type="fixed">
    <origin xyz="0.01818 0 0" rpy="4.64506e-08 1.06465 7.88574e-08"/>
    <axis xyz="0 -1 -4.37114e-08"/>
    <parent link="RFinger21Link"/>
    <child link="RFinger22Link"/>
    <limit effort="0" lower="0" upper="1.06465082555556" velocity="0" />
    <mimic joint="RFinger11" multiplier="1" offset="0"/>
  </joint>

  <joint name="RFinger23" type="fixed">
    <origin xyz="0.01818 0 0" rpy="4.64506e-08 1.06465 7.88574e-08"/>
    <axis xyz="0 -1 -4.37114e-08"/>
    <parent link="RFinger22Link"/>
    <child link="RFinger23Link"/>
    <limit effort="0" lower="0" upper="1.06465082555556" velocity="0" />
    <mimic joint="RFinger11" multiplier="1" offset="0"/>
  </joint>

  <joint name="RFinger31" type="fixed">
    <origin xyz="0.09936 0.02478 0.00329" rpy="2.98023e-08 1.06465 0.122173"/>
    <axis xyz="0.121869 -0.992546 -4.37114e-08"/>
    <parent link="r_wrist"/>
    <child link="RFinger31Link"/>
    <limit effort="0" lower="0" upper="1.06465082555556" velocity="0" />
    <mimic joint="RFinger11" multiplier="1" offset="0"/>
  </joint>

  <joint name="RFinger32" type="fixed">
    <origin xyz="0.01818 0 0" rpy="4.64506e-08 1.06465 7.88574e-08"/>
    <axis xyz="0 -1 -4.37114e-08"/>
    <parent link="RFinger31Link"/>
    <child link="RFinger32Link"/>
    <limit effort="0" lower="0" upper="1.06465082555556" velocity="0" />
    <mimic joint="RFinger11" multiplier="1" offset="0"/>
  </joint>

  <joint name="RFinger33" type="fixed">
    <origin xyz="0.01818 0 0" rpy="4.64506e-08 1.06465 7.88574e-08"/>
    <axis xyz="0 -1 -4.37114e-08"/>
    <parent link="RFinger32Link"/>
    <child link="RFinger33Link"/>
    <limit effort="0" lower="0" upper="1.06465082555556" velocity="0" />
    <mimic joint="RFinger11" multiplier="1" offset="0"/>
  </joint>

  <joint name="RThumb1" type="fixed">
    <origin xyz="0.07115 0.02465 -0.01233" rpy="-2.68221e-07 1.37881 2.53073"/>
    <axis xyz="0.573576 0.819152 1.05097e-07"/>
    <parent link="r_wrist"/>
    <child link="RThumb1Link"/>
    <limit effort="0" lower="-1.06465082555556" upper="0" velocity="0" />
    <mimic joint="RFinger11" multiplier="-1" offset="0"/>
  </joint>

  <joint name="RThumb2" type="fixed">
    <origin xyz="0.01818 0 0" rpy="4.64506e-08 1.06465 7.88574e-08"/>
    <axis xyz="0 -1 -4.37114e-08"/>
    <parent link="RThumb1Link"/>
    <child link="RThumb2Link"/>
    <limit effort="0" lower="0" upper="1.06465082555556" velocity="0" />
    <mimic joint="RFinger11" multiplier="1" offset="0"/>
  </joint>

  <joint name="RThumb3" type="fixed">
    <origin xyz="0.01818 0 0" rpy="4.64506e-08 1.06465 7.88574e-08"/>
    <axis xyz="0 -1 -4.37114e-08"/>
    <parent link="RThumb2Link"/>
    <child link="RThumb3Link"/>
    <limit effort="0" lower="0" upper="1.06465082555556" velocity="0" />
    <mimic joint="RFinger11" multiplier="1" offset="0"/>
  </joint>

  <joint name="l_sole_joint" type="fixed">
    <parent link="l_ankle"/>
    <child link="l_sole"/>
    <origin xyz="0 0 -0.067" rpy="0 0 0"/>
  </joint>
  <joint name="r_sole_joint" type="fixed">
    <parent link="r_ankle"/>
    <child link="r_sole"/>
    <origin xyz="0 0 -0.067" rpy="0 0 0"/>
  </joint>
  
  <!-- Humanoid standard frame: gaze -->
  

  <joint name="gaze_joint" type="fixed">
    <parent link="HeadRollLink"/>
    <child link="gaze"/>
    <origin xyz="0.1111 0 0.0515" rpy="0 0 0" />
  </joint>
  <link name="gaze"/>


  <!-- Sensors: cameras -->

  <joint name="LEyeYaw" type="fixed">
    <origin xyz="0 0.0325 0" rpy="0 0 0"/>
    <axis xyz="0 0 1"/>
    <parent link="gaze"/>
    <child link="LEyePitch_link"/>
    <limit effort="0" lower="-0.523598766666667" upper="0.523598766666667" velocity="0" />
  </joint>
  <link name="LEyePitch_link"/>



  <joint name="LEyePitch" type="fixed">
    <origin xyz="0 0 0" rpy="0 0 0"/>
    <axis xyz="0 1 0"/>
    <parent link="LEyePitch_link"/>
    <child link="CameraLeftEye"/>
    <limit effort="0" lower="-0.349065844444444" upper="0.349065844444444" velocity="0" />
  </joint>
  <link name="CameraLeftEye"/>



  <joint name="REyeYaw" type="fixed">
    <origin xyz="0 -0.0325 0" rpy="0 0 0"/>
    <axis xyz="0 0 1"/>
    <parent link="gaze"/>
    <child link="REyePitch_link"/>
    <limit effort="0" lower="-0.523598766666667" upper="0.523598766666667" velocity="0" />
  </joint>
  <link name="REyePitch_link"/>


  <joint name="REyePitch" type="fixed">
    <origin xyz="0 0 0" rpy="0 0 0"/>
    <axis xyz="0 1 0"/>
    <parent link="REyePitch_link"/>
    <child link="CameraRightEye"/>
    <limit effort="0" lower="-0.349065844444444" upper="0.349065844444444" velocity="0" />
  </joint>
  <link name="CameraRightEye"/>


  <joint name="CameraLeft_joint" type="fixed">
    <origin xyz="-0.0021 0.055 0.0333" rpy="0 0 0" />
    <parent link="gaze"/>
    <child link="CameraLeft"/>
  </joint>
  <link name="CameraLeft"/>



  <joint name="CameraRight_joint" type="fixed">
    <origin xyz="-0.0021 -0.055 0.0333" rpy="0 0 0" />
    <parent link="gaze"/>
    <child link="CameraRight"/>
  </joint>
  <link name="CameraRight"/>


	<!--
		 Humanoid standard frames

		 This section defines anchor joint renaming to respect the
		 REP 120 (http://www.ros.org/reps/rep-0120.html):
		 Coordinate Frames for Humanoids Robots
		-->

	<!-- Humanoid standard frames: wrists and hands -->
	<joint name="l_gripper_joint" type="fixed">
		<parent link="l_wrist"/>
		<child link="l_gripper"/>
		<origin xyz="0.09 0 -0.02" rpy="-1.57079633 0 0"/>
	</joint>
	<link name="l_gripper"/>

	<joint name="r_gripper_joint" type="fixed">
		<parent link="r_wrist"/>
		<child link="r_gripper"/>
		<origin xyz="0.09 0 -0.02" rpy="-1.57079633 0 0"/>
	</joint>
	<link name="r_gripper"/>
</robot>
